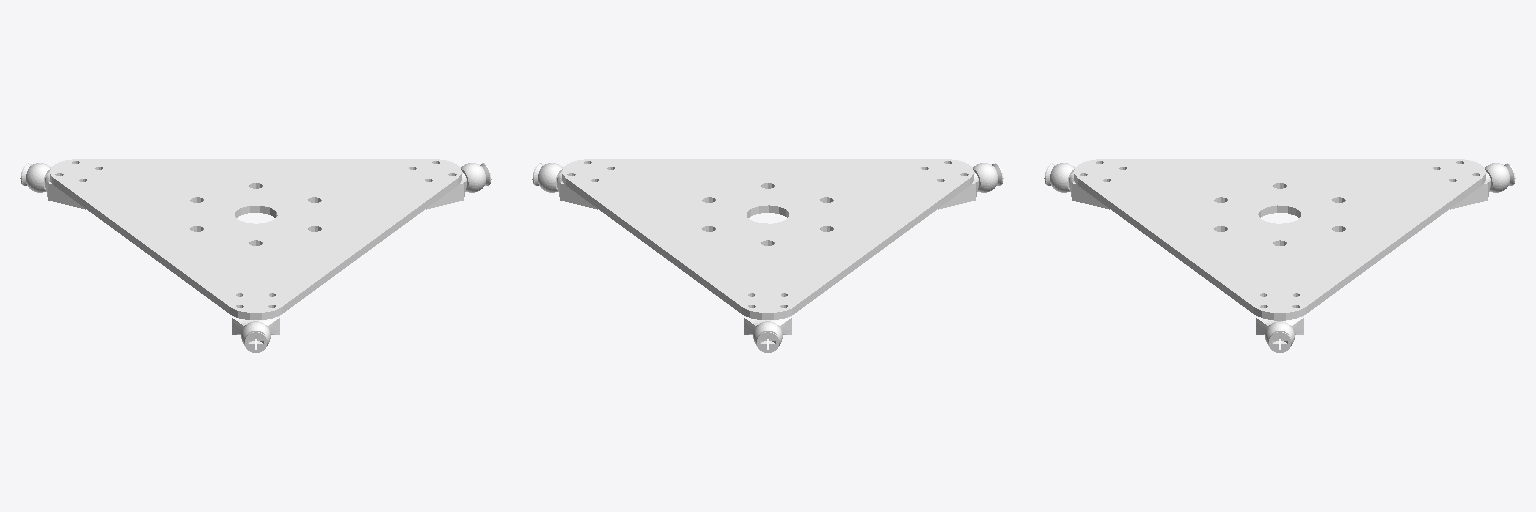
URDF robot description (mobile):
<?xml version="1.0"?>
<!-- This URDF was automatically created by SolidWorks to URDF Exporter! Originally created by Stephen Brawner (brawner@gmail.com) 
     Commit Version: 1.6.0-1-g15f4949  Build Version: 1.6.7594.29634
     For more information, please see http://wiki.ros.org/sw_urdf_exporter -->
     
<robot name="mobile">
   
  <link name ="World_Link" />

  <link name="MB_Link">
    <visual>
    <origin xyz="0 0 0" rpy="0 0 0" />
      <geometry>
        <mesh filename="package://rp3ba/meshes/MB_Link.STL" />
      </geometry>
      <material name="">
        <color rgba="1 1 1 0.5" />
      </material>
    </visual>
  </link>

  <joint name="MB_Joint" type="floating">
    <parent link="World_Link" />
    <child link="MB_Link" /> 
  </joint>
    
  <link name ="AP1_Link" />
  <link name ="AP2_Link" />
  <link name ="AP3_Link" />
  <link name ="AP2a_Link" />
  <link name ="AP3a_Link" />
  
  <joint name="AP1_Joint" type="fixed">
    <origin xyz="0.0916 0  0" rpy="0 0 0" />
    <parent link="MB_Link" />
    <child link="AP1_Link" />
  </joint>
  
  <joint name="AP2a_Joint" type="fixed">
    <origin xyz="0 0 0" rpy="0 0 2.0944" />
    <parent link="MB_Link" />
    <child link="AP2a_Link" /> 
  </joint>
  
  <joint name="AP2_Joint" type="fixed">
    <origin xyz="0.0916 0  0" rpy="0 0 0" />
    <parent link="AP2a_Link" />
    <child link="AP2_Link" />
  </joint>
  
  <joint name="AP3a_Joint" type="fixed">
    <origin xyz="0 0 0" rpy="0 0 -2.0944" />
    <parent link="MB_Link" />
    <child link="AP3a_Link" /> 
  </joint>
  
  <joint name="AP3_Joint" type="fixed">
    <origin xyz="0.0916 0  0" rpy="0 0 0" />
    <parent link="AP3a_Link" />
    <child link="AP3_Link" />
  </joint>
  
</robot>

--- Render facts (derived) ---
The picture shows the robot from 3 angles, left to right: view 1: azimuth 30°, elevation 25°; view 2: azimuth 150°, elevation 25°; view 3: azimuth 270°, elevation 25°; orthographic projection.
Robot: mobile — 7 links, 6 joints (5 fixed, 1 floating); root link World_Link; default pose: all joints at 0.
Visible links, largest first — view 1: MB_Link; view 2: MB_Link; view 3: MB_Link.
Link boxes in pixels (<box>): MB_Link: <box>20,159,491,352</box>; MB_Link: <box>532,159,1003,352</box>; MB_Link: <box>1044,159,1515,352</box>.
Bounding box of the posed robot: 0.1501 × 0.1733 × 0.012 m (x, y, z).
Meshes: 1 distinct files referenced, 1 mesh visuals loaded (1 binary STL).
